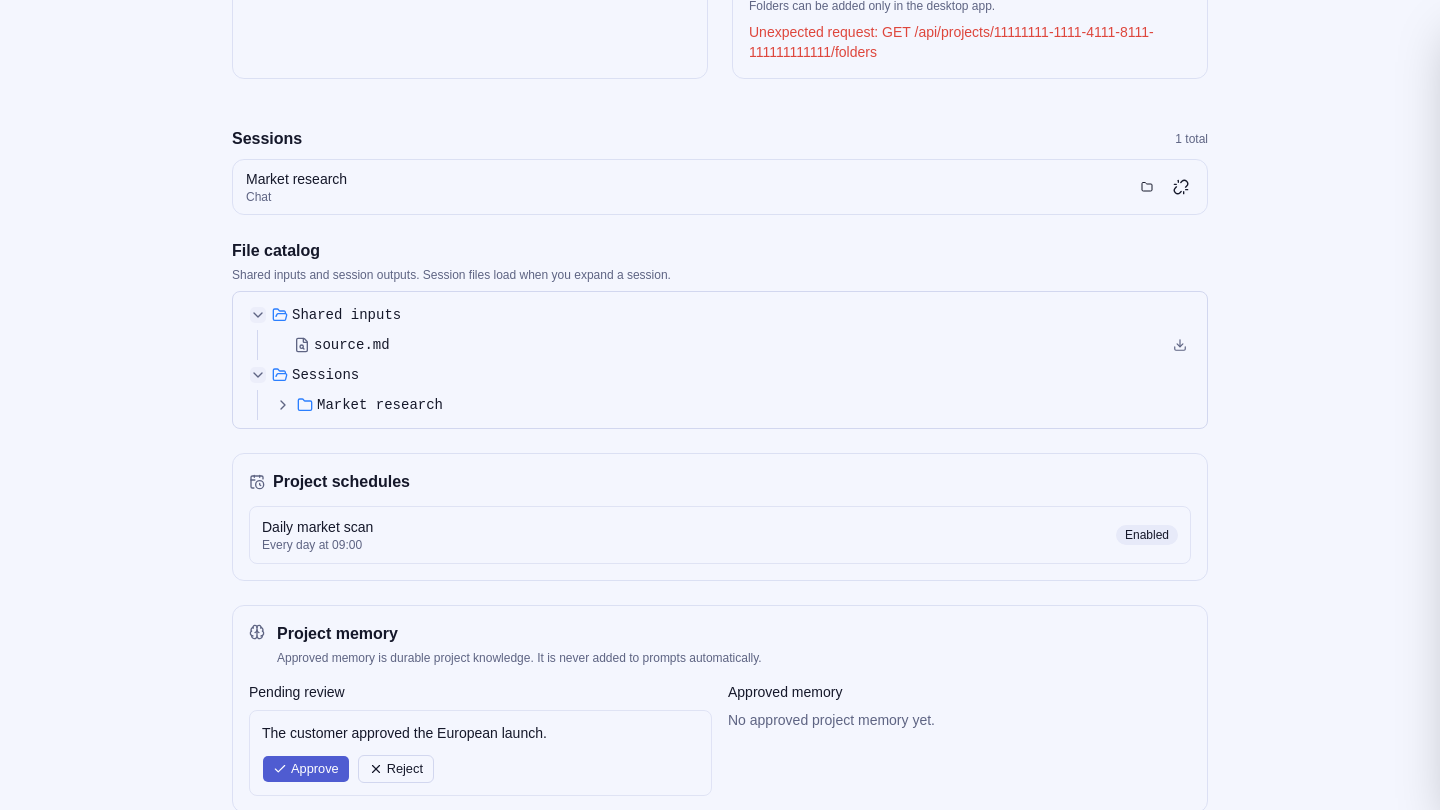
Test case: LibraryPanel › reloads the file catalog after disconnecting a session
(page scrolled)
Click the button named "Expand Market research": (283, 405) top-left (274, 396), bottom-right (292, 414)
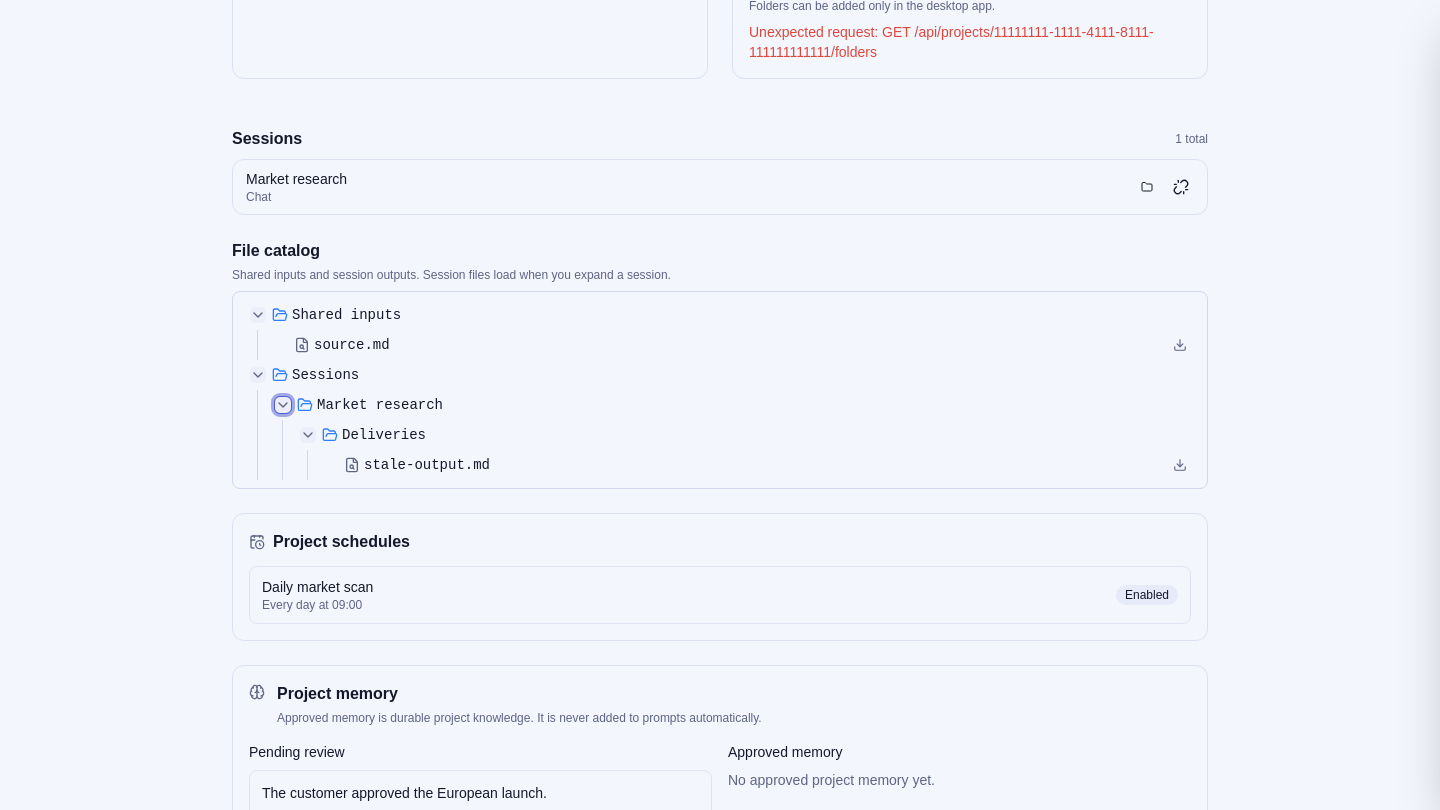
Expected: the text "stale-output.md" is shown, top-left (364, 455), bottom-right (490, 475)
Click the button named "Remove Market research from project": (1181, 187) top-left (1167, 173), bottom-right (1195, 201)
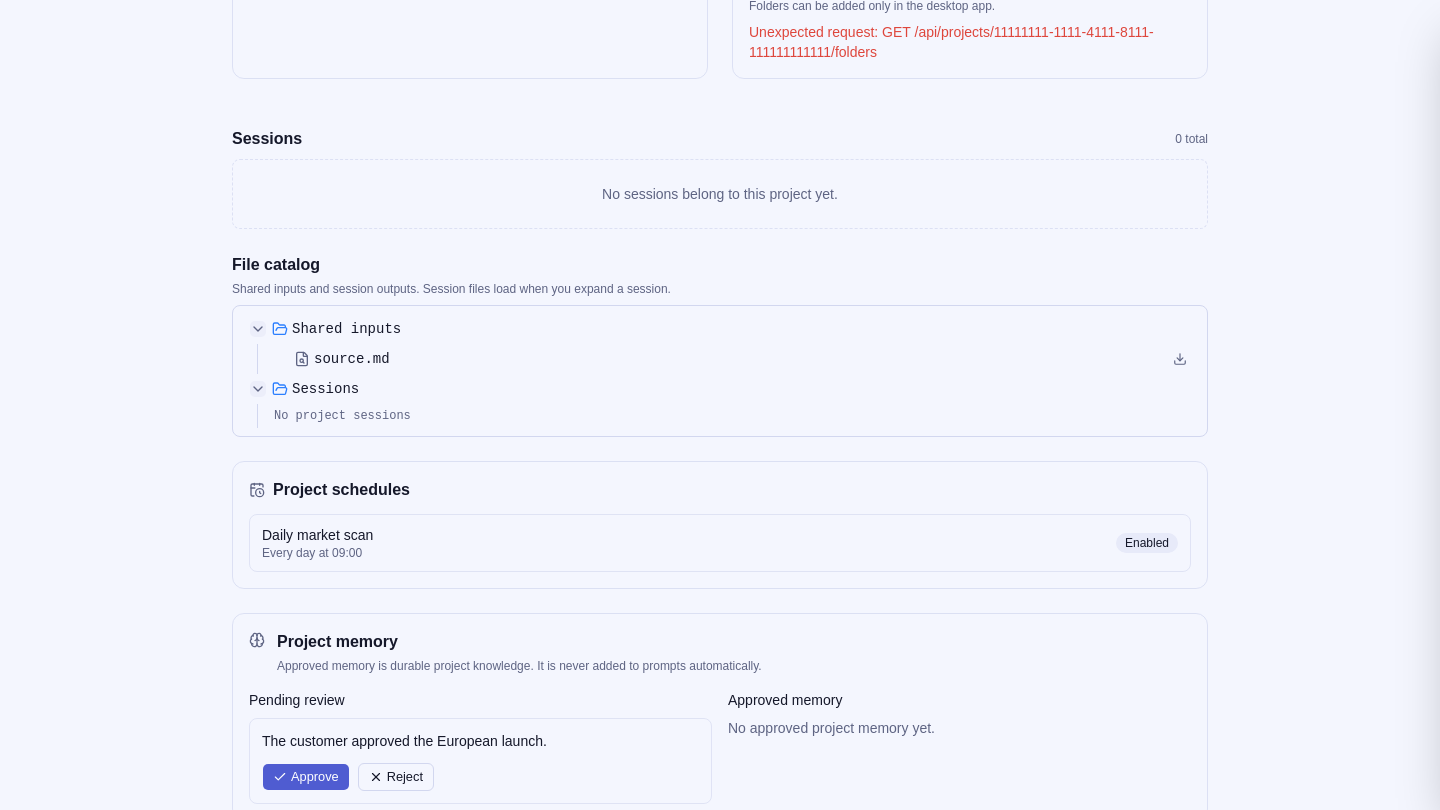
Expected: the text "stale-output.md" is gone
Expected: the text "No project sessions" is shown, top-left (274, 409), bottom-right (411, 423)
